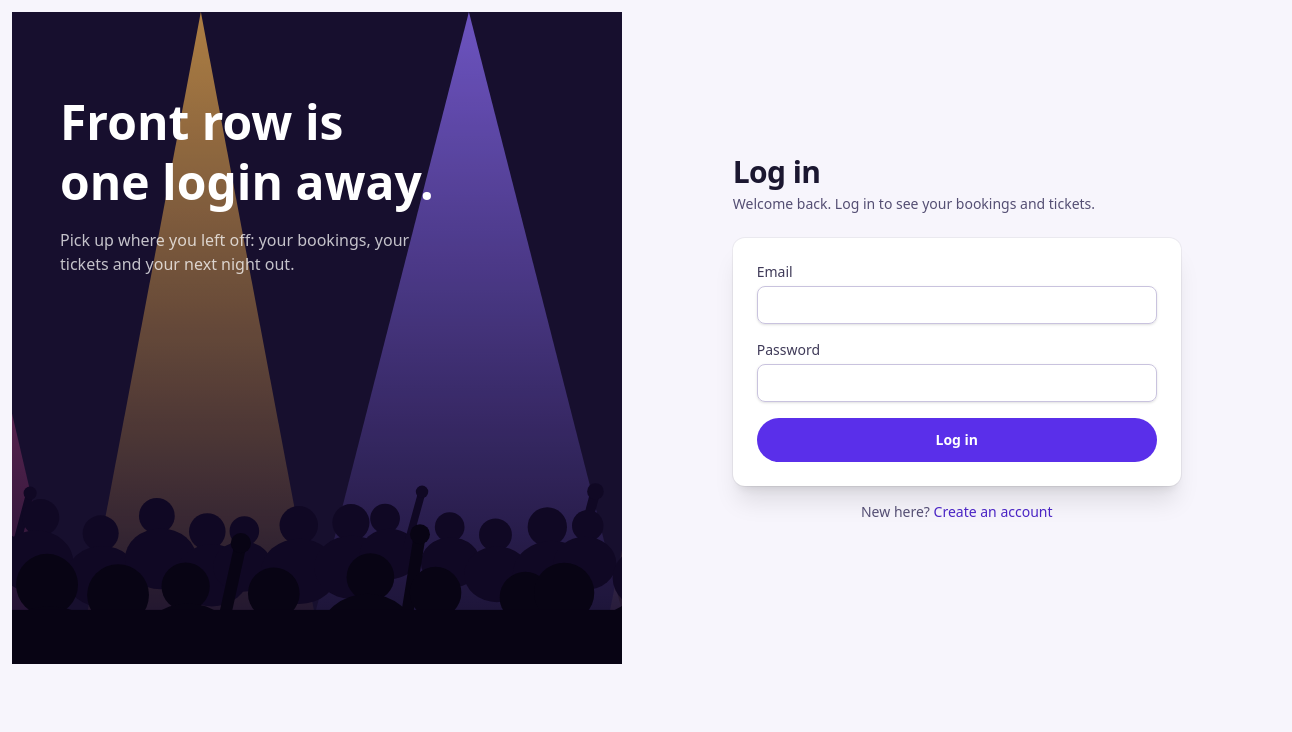
Scenario: LoginPage › explains a rate limit with the wait time
Type "ana@example.com" into the field labelled "Email" at (957, 305), box [757,286,1157,324]
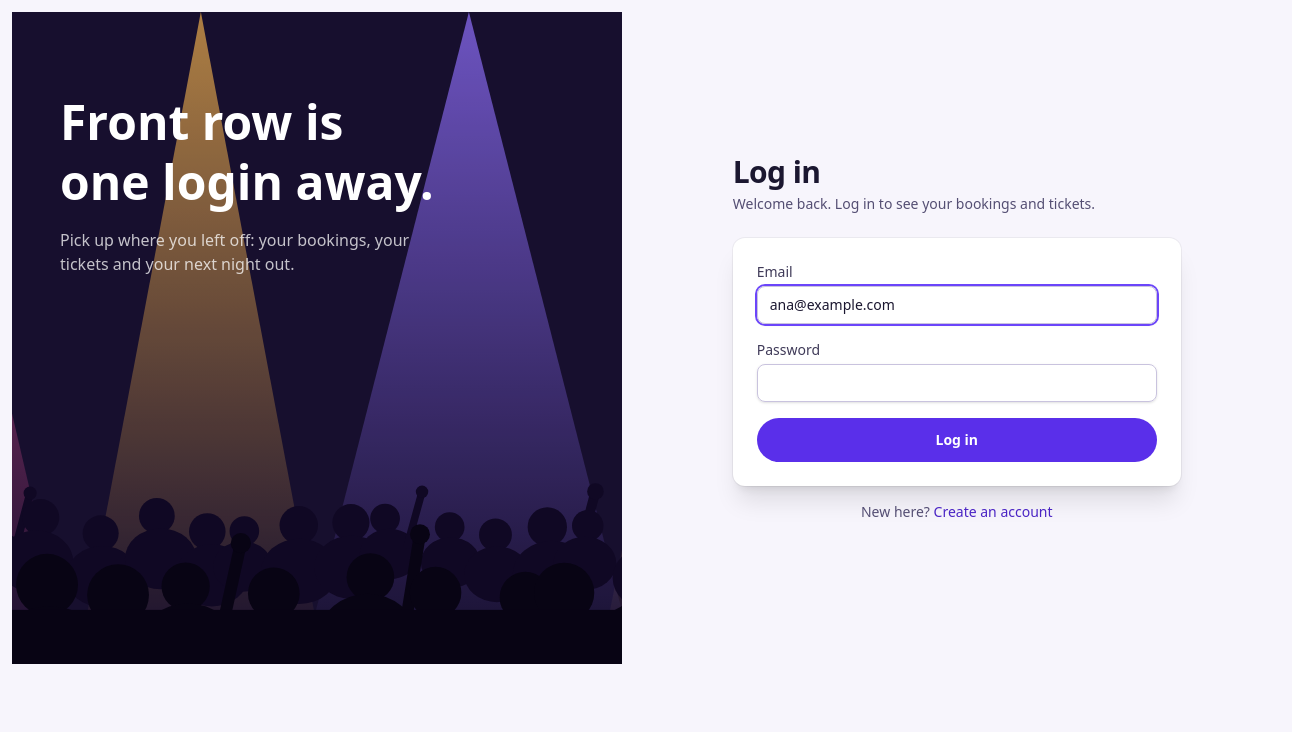
Type "whatever1" into the password field labelled "Password" at (957, 383), box [757,364,1157,402]
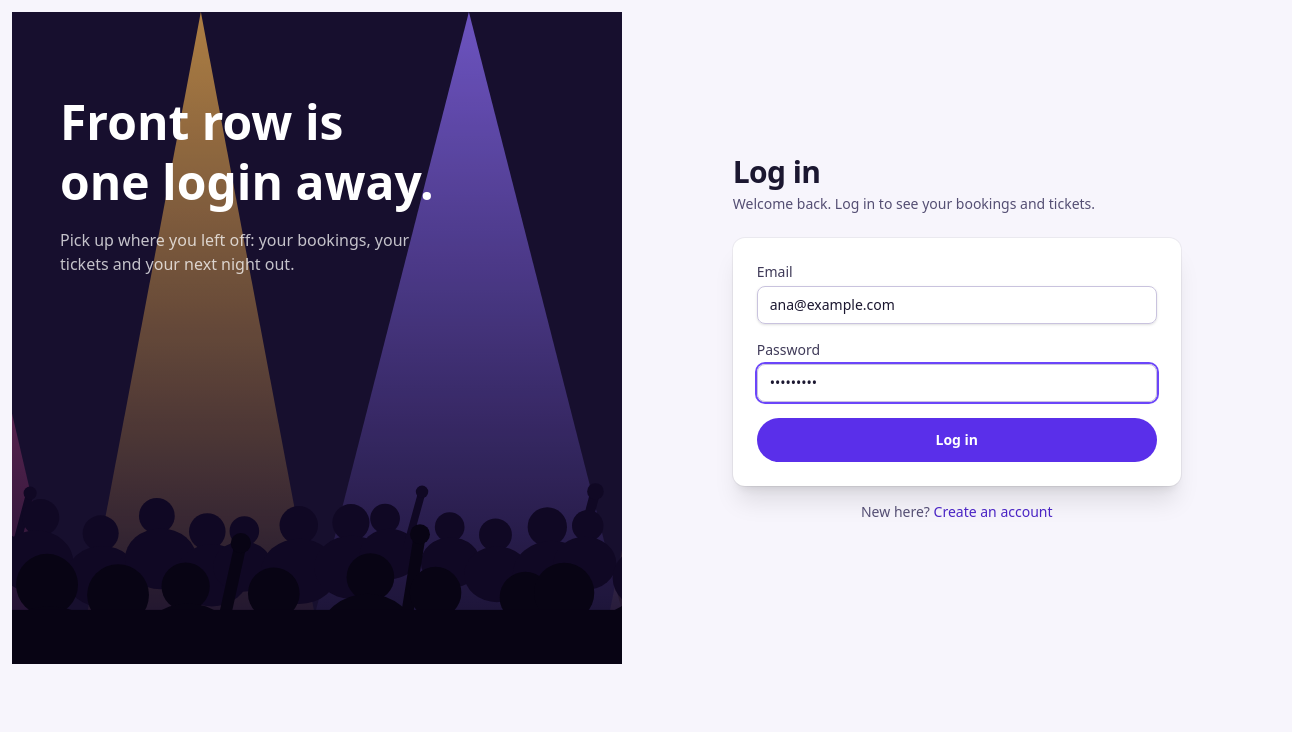
Click the button "Log in" at (957, 440), box [757,418,1157,462]
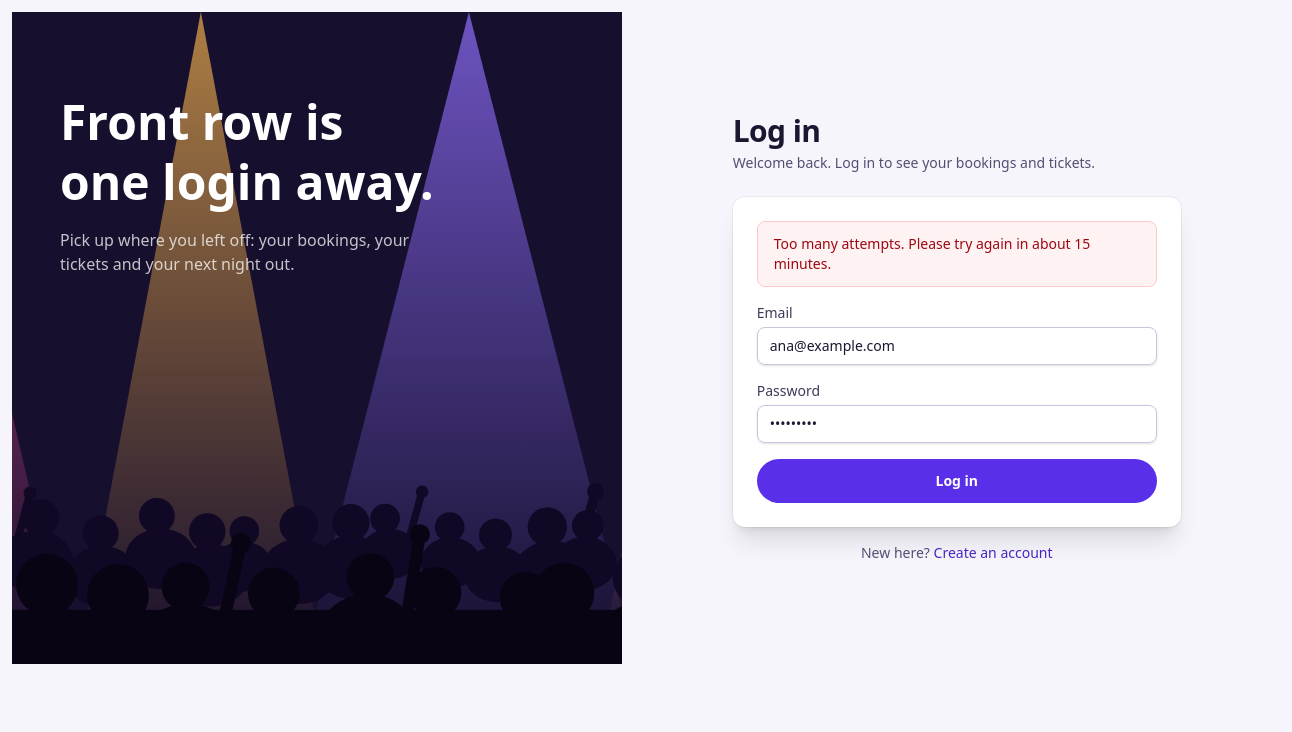
Expected: the message shows "about 15 minutes", [774,234,1090,273]
